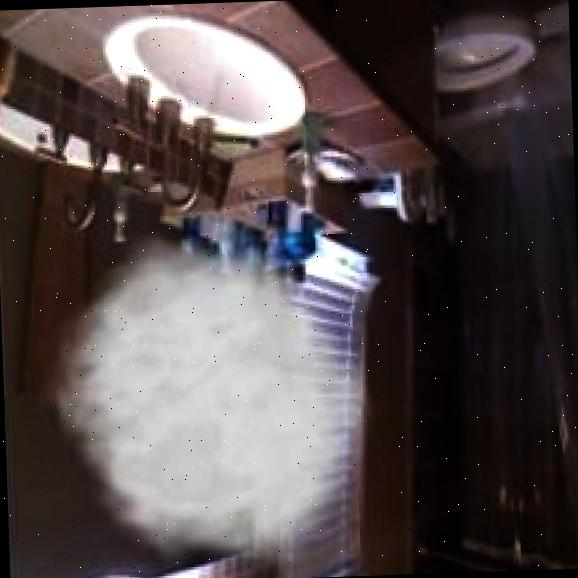smoke: (32, 220, 386, 578)
